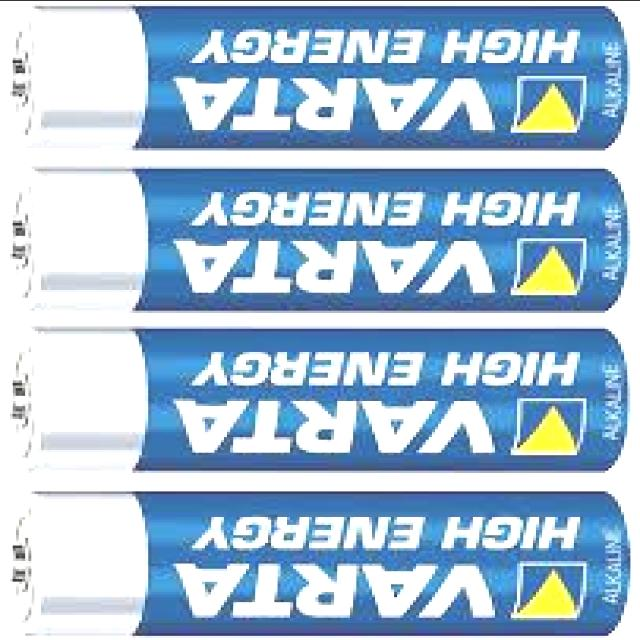AA: (3, 490, 631, 640), (4, 2, 628, 152), (4, 328, 628, 475), (4, 168, 628, 315)
